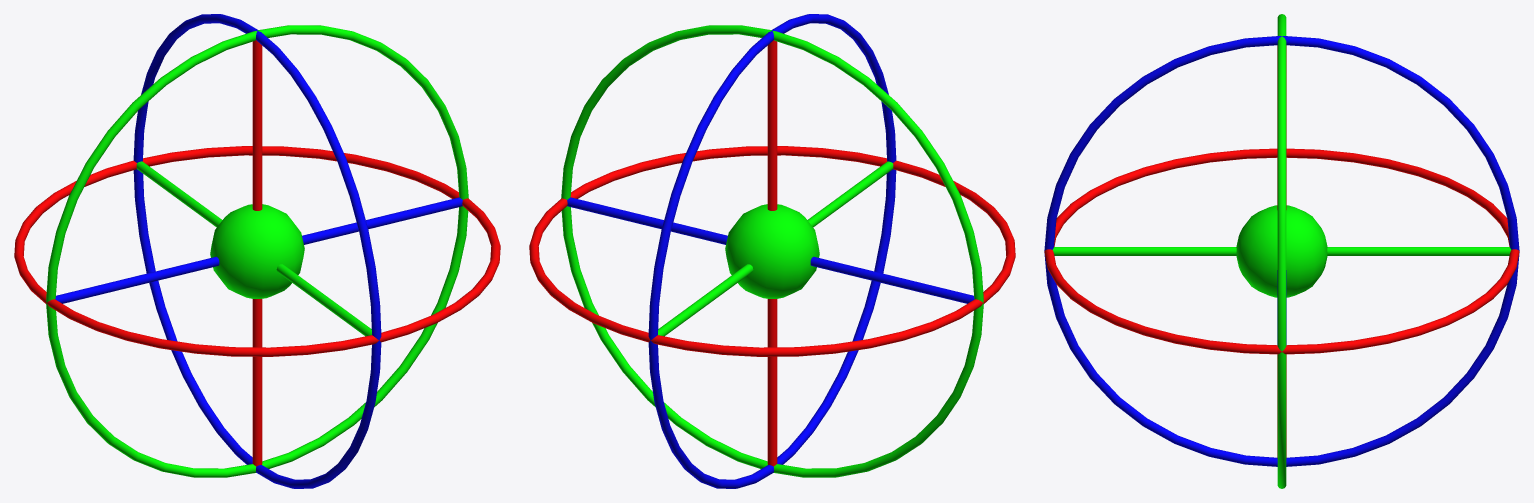
Rendered from Arrows.fbx.
3 views of the same model, side by side, from view 1: azimuth 30°, elevation 25°; view 2: azimuth 150°, elevation 25°; view 3: azimuth 270°, elevation 25° (orthographic). The views are drawn at different scales.
Visible parts, largest first — view 1: Arrows; view 2: Arrows; view 3: Arrows.
Boxes of the visible parts, x1=… form: Arrows: x1=14, y1=14, x2=500, y2=488; Arrows: x1=529, y1=14, x2=1015, y2=488; Arrows: x1=1044, y1=14, x2=1519, y2=488.
Bounding box in the file's own units: 204 × 204 × 204.
